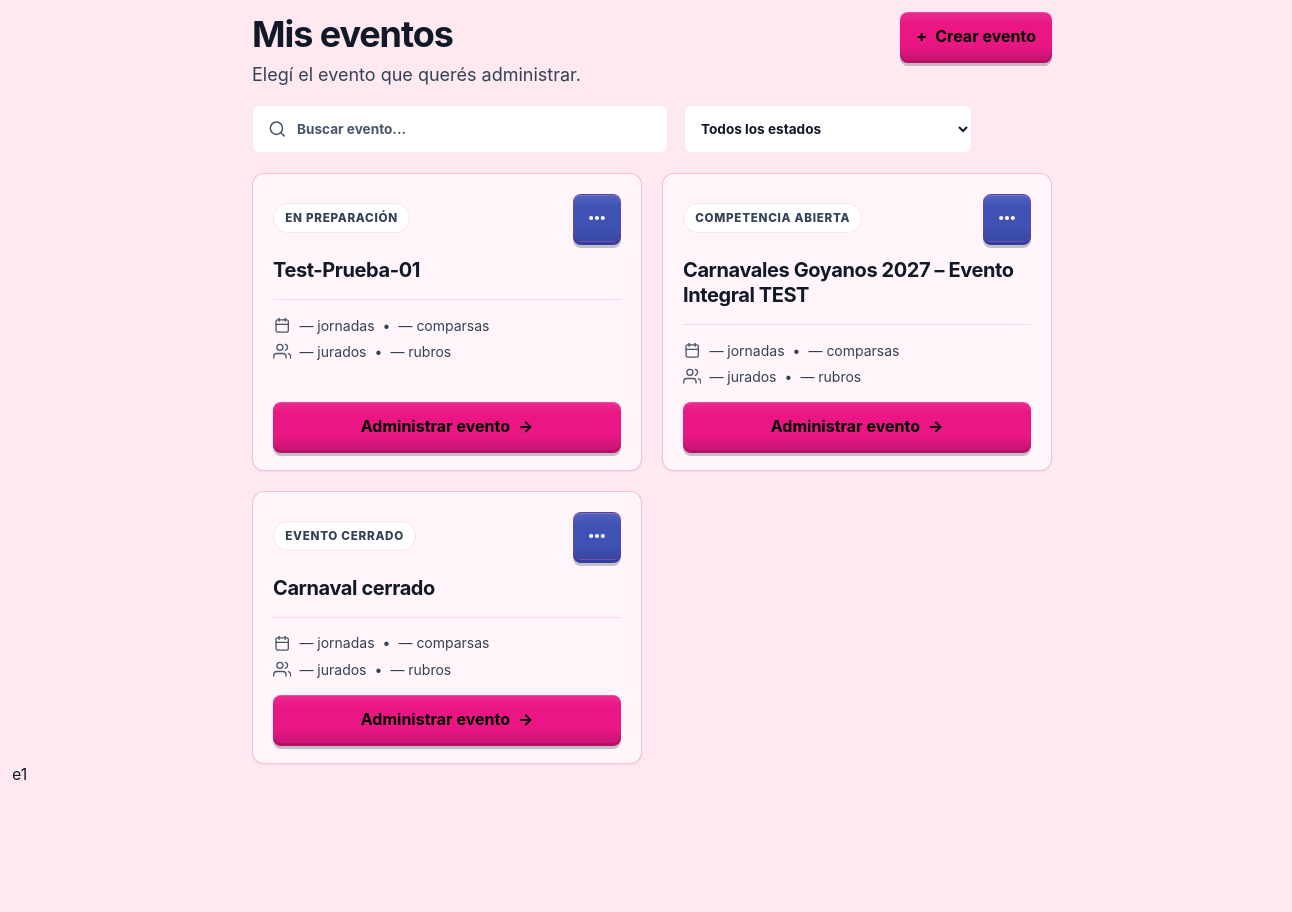
Test: AdminHomePage (Rediseño a Mis eventos) › pulsar Administrar evento establece el evento activo y navega a #/admin/events
Click the button named "Administrar evento Carnavales Goyanos 2027 – Evento Integral TEST".
click(857, 426)  # box [683, 402, 1031, 450]
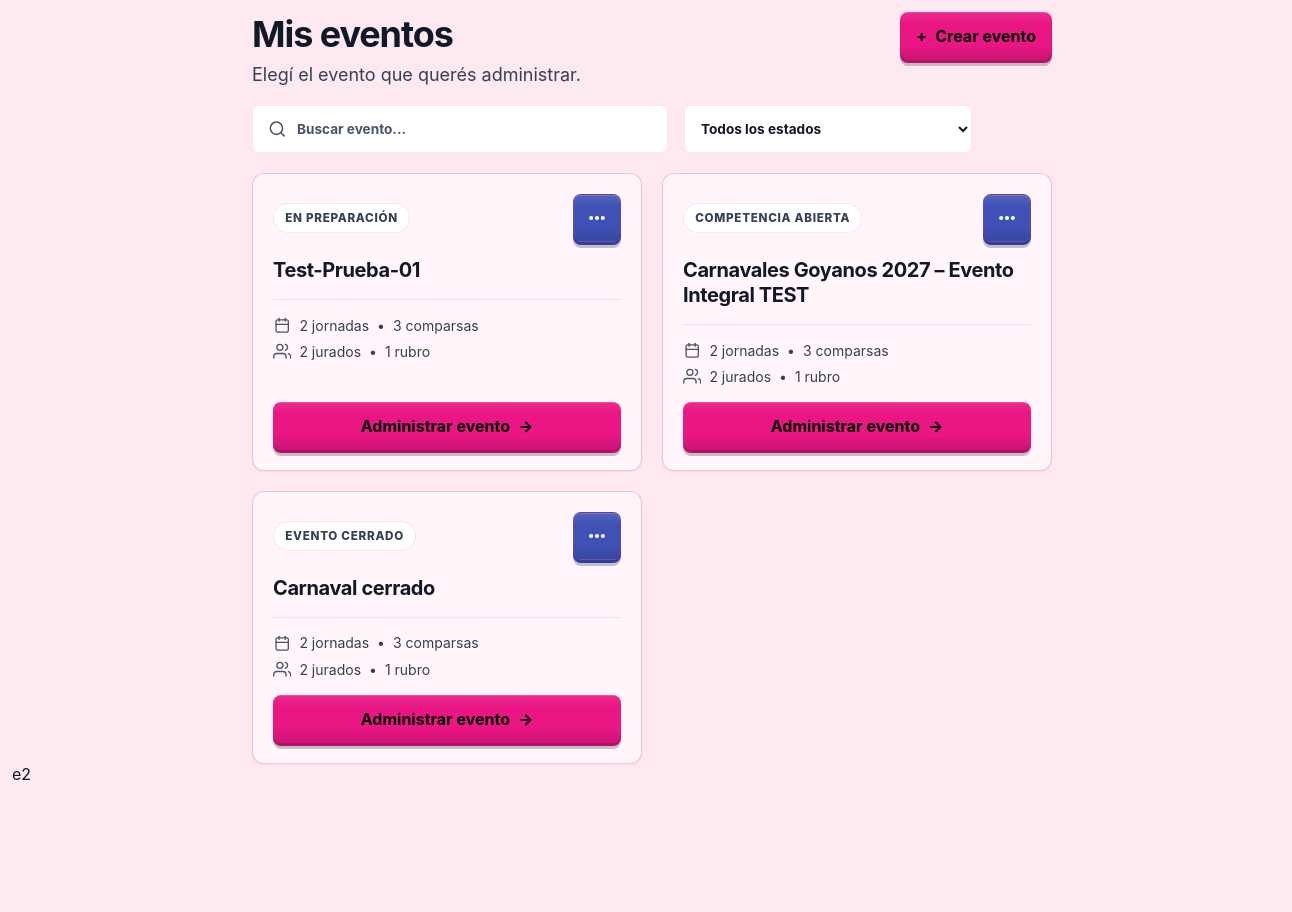
Now the text with test id "active-event" reads "e2", box [12, 764, 31, 784]
